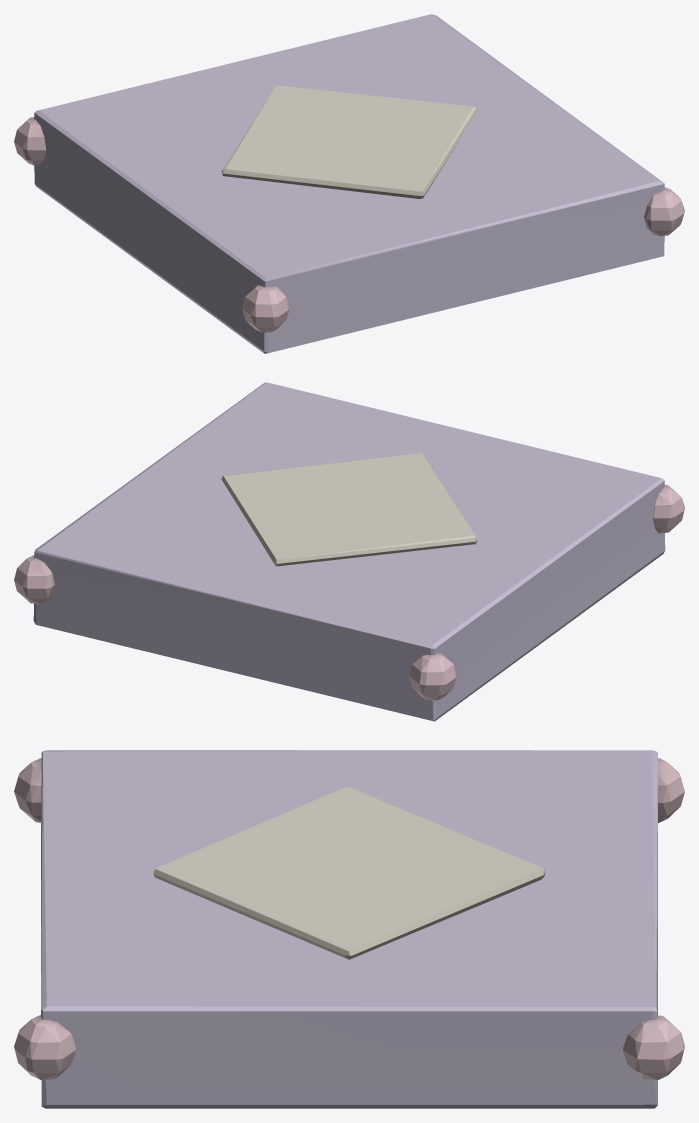
Rendered from furn_floor_cushion__lavender_low.glb.
The picture shows the model from 3 angles, top to bottom: view 1: azimuth 30°, elevation 25°; view 2: azimuth 150°, elevation 25°; view 3: azimuth 270°, elevation 25°; orthographic projection. The views are drawn at different scales.
Bounding box in the file's own units: 0.592 × 0.1092 × 0.5963.
